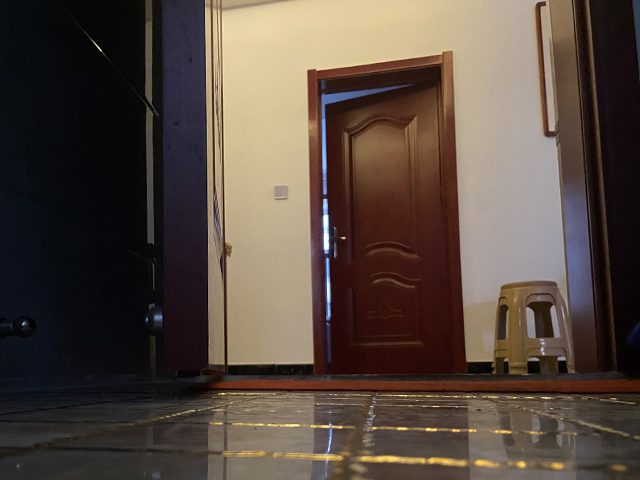carpet: (190, 379, 640, 394)
stool: (491, 280, 575, 376)
